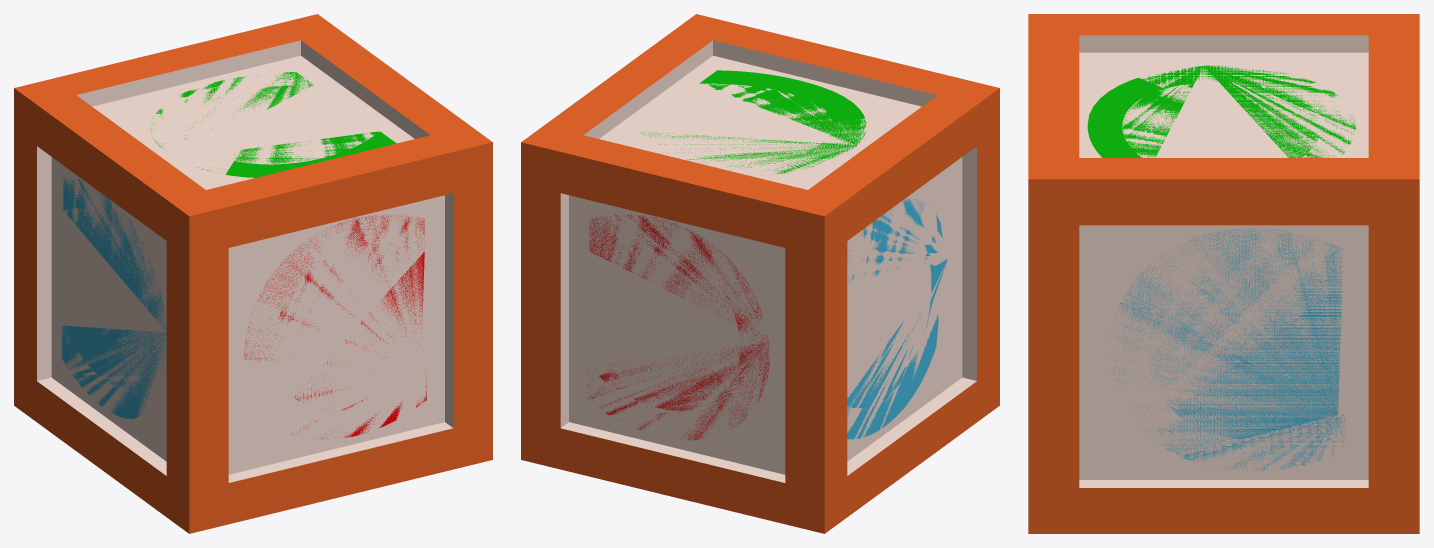
The model's file is Prop_KidsCube_C.fbx.
The picture shows the model from 3 angles, left to right: view 1: azimuth 30°, elevation 25°; view 2: azimuth 150°, elevation 25°; view 3: azimuth 270°, elevation 25°; orthographic projection. The views are drawn at different scales.
Visible parts, largest first — view 1: Prop_KidsCube_C; view 2: Prop_KidsCube_C; view 3: Prop_KidsCube_C.
Part boxes in pixels (x1,y1,x2,y2): Prop_KidsCube_C: (14, 14, 492, 533); Prop_KidsCube_C: (521, 14, 999, 533); Prop_KidsCube_C: (1028, 14, 1419, 533).
Bounding box in the file's own units: 20.93 × 20.93 × 20.93.
